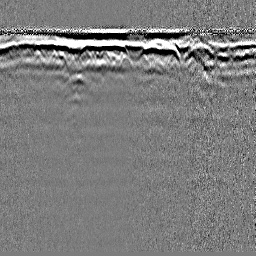cavity: (118, 52, 134, 70)
